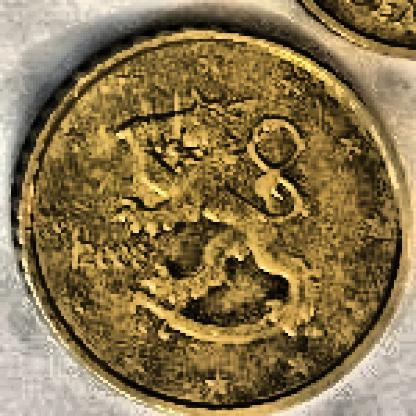coin: (14, 31, 413, 414)
